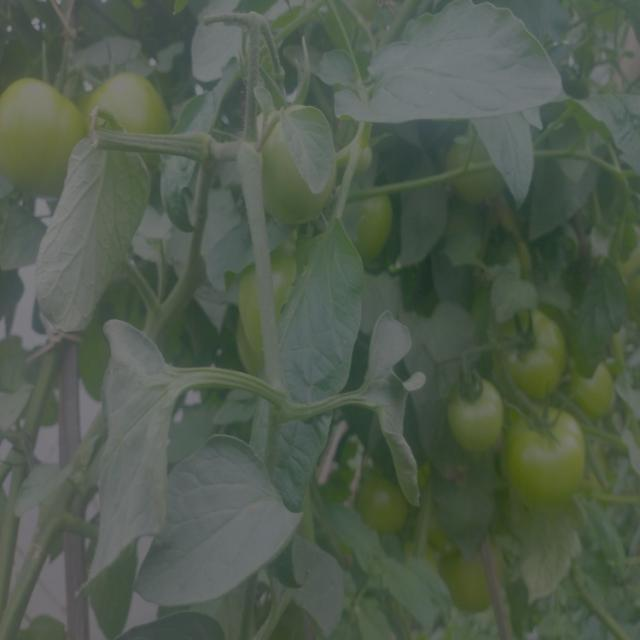tomato: (1, 73, 81, 197), (505, 403, 592, 509), (87, 59, 180, 153), (261, 105, 332, 227), (497, 300, 565, 391), (442, 369, 505, 454), (243, 258, 297, 352), (434, 534, 502, 608), (342, 190, 398, 259), (353, 463, 408, 531), (447, 138, 506, 201), (570, 355, 620, 418), (341, 132, 381, 178)
